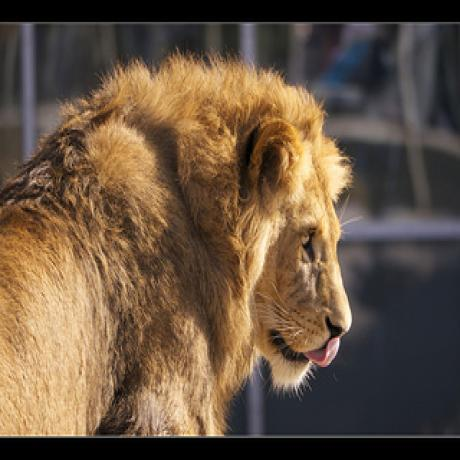Lion: (0, 46, 355, 437)
